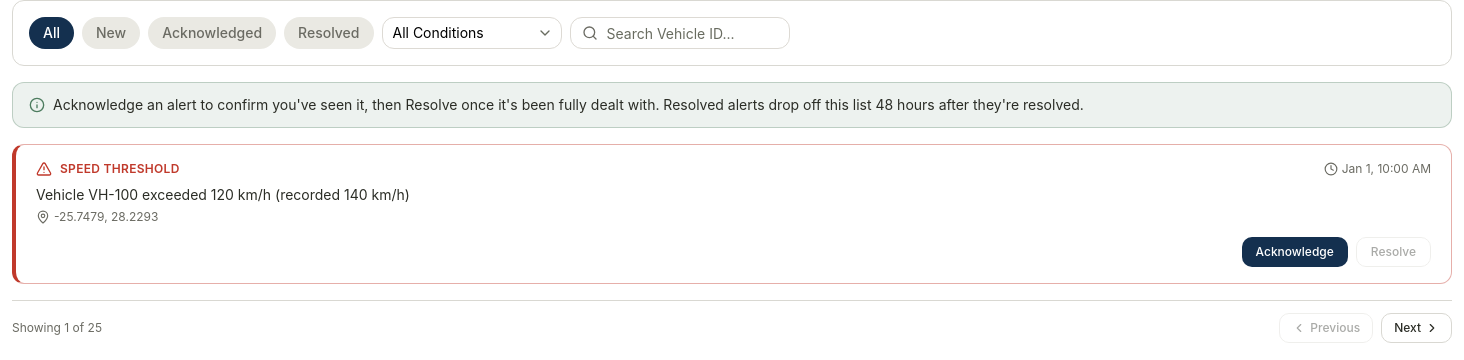
Scenario: TriggeredAlertsTab › pagination › Next advances the offset and refetches
The width and height of the screenshot is (1464, 360).
Click the button "Next".
click(1417, 328)  # box [1381,313,1452,343]
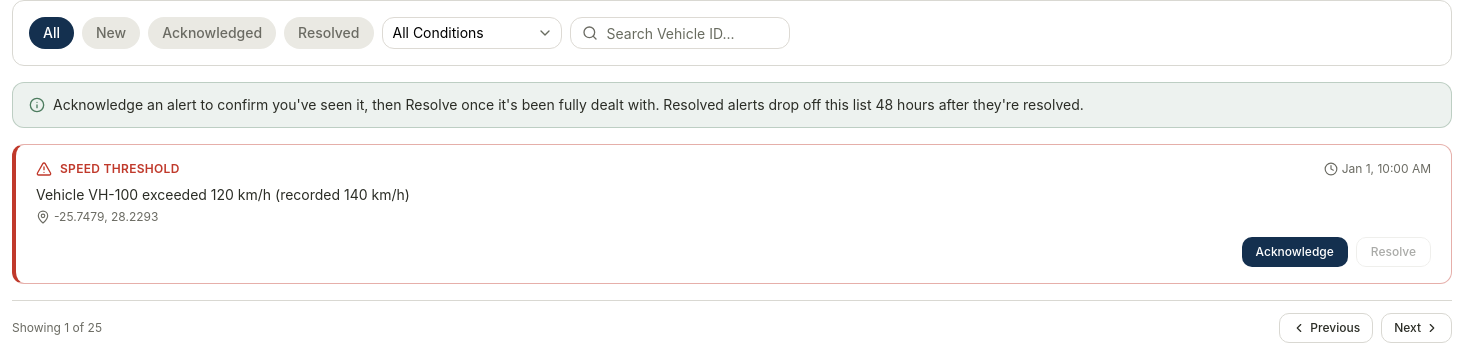
Check: the button "Previous" is enabled, box [1279,313,1373,343]
